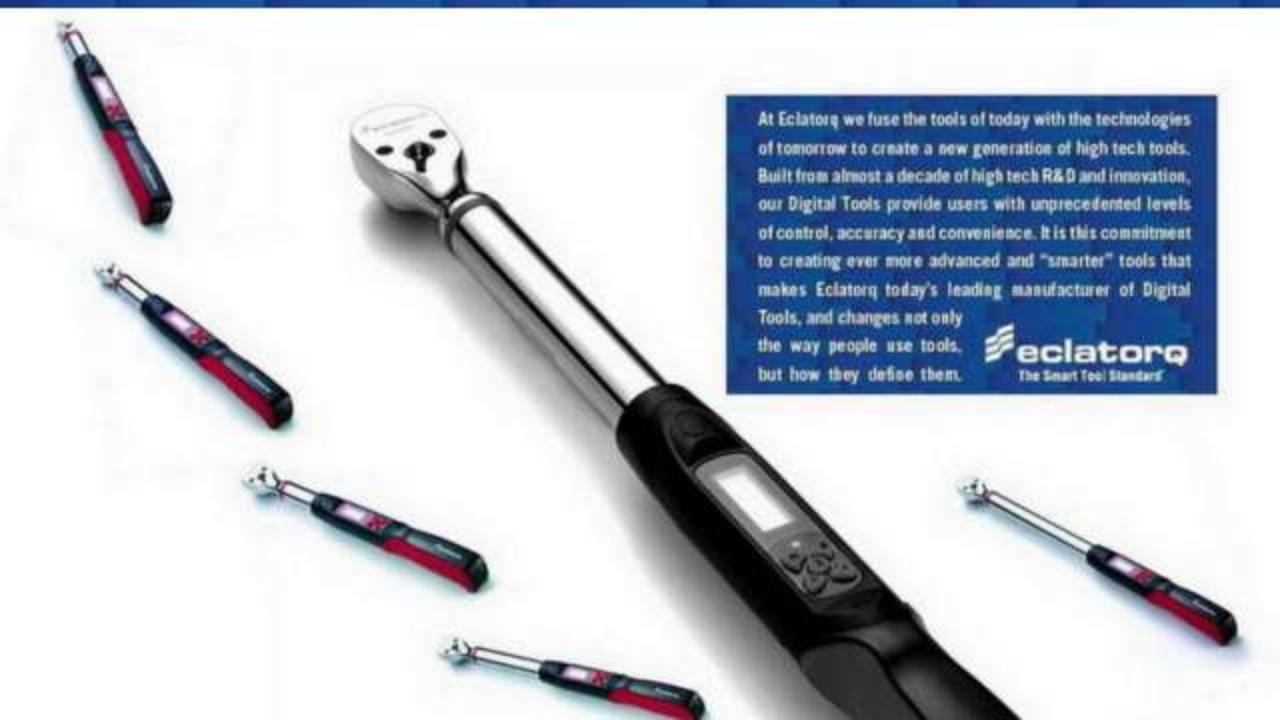Tool: (351, 103, 482, 210)
